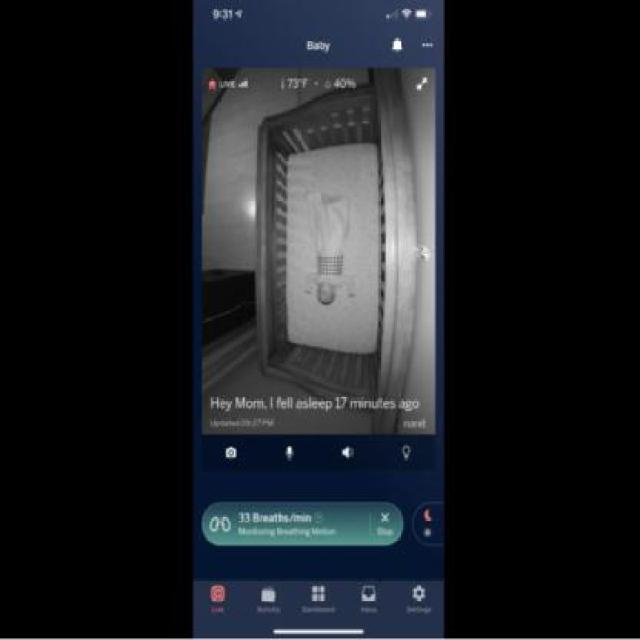baby: (304, 190, 358, 321)
